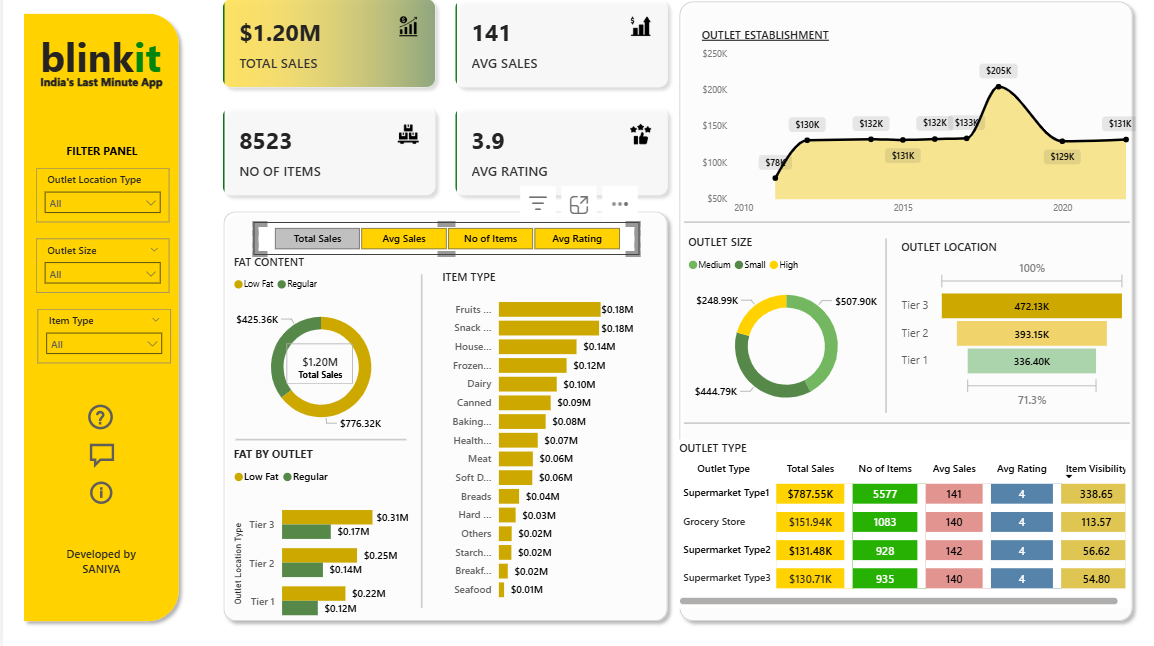

Layout of this report page (visuals, bound fields, positions):
{"tool":"powerbi","page":{"name":"blinkit","canvas":[1400,800],"ordinal":0},"visuals":[{"type":"shape","box":[16.5,24.8,204.6,750.3],"z":0},{"type":"textbox","box":[39.3,47.5,161.2,88.9],"z":1000},{"type":"textbox","box":[39.3,101.3,161.2,35.1],"z":2000},{"type":"cardVisual","fields":{"Data":["BlinkIT Grocery Data.Total Sales","BlinkIT Grocery Data.Avg Sales","BlinkIT Grocery Data.No of Items","BlinkIT Grocery Data.Avg Rating"]},"box":[248,0,570.5,270.8],"z":3000},{"type":"shape","box":[256.6,263.9,553,511.5],"z":4000},{"type":"donutChart","title":"FAT CONTENT","fields":{"Y":["BlinkIT Grocery Data.Total Sales"],"Category":["BlinkIT Grocery Data.Item Fat Content"]},"box":[272.6,323.1,220.1,228.2],"z":5000},{"type":"slicer","fields":{"Values":["Metrics.Metrics"]},"box":[301.8,285.2,465.1,39.3],"z":6000},{"type":"cardVisual","fields":{"Data":["BlinkIT Grocery Data.Total Sales"]},"box":[336.9,425.8,90.9,59.9],"z":7000},{"type":"clusteredBarChart","title":"FAT BY OUTLET","fields":{"Y":["BlinkIT Grocery Data.Total Sales"],"Category":["BlinkIT Grocery Data.Outlet Location Type"],"Series":["BlinkIT Grocery Data.Item Fat Content"]},"box":[273.3,551.7,220,230],"z":8000},{"type":"shape","box":[280.7,529,206,36.3],"z":9000},{"type":"shape","box":[492.7,349.3,22.2,401.8],"z":10000},{"type":"barChart","title":"ITEM TYPE","fields":{"Y":["BlinkIT Grocery Data.Total Sales"],"Category":["BlinkIT Grocery Data.Item Type"]},"box":[525,341.3,240.3,409.9],"z":11000},{"type":"shape","box":[806,10.8,563.9,764.5],"z":12000},{"type":"lineChart","title":"OUTLET ESTABLISHMENT","fields":{"Category":["BlinkIT Grocery Data.Outlet Establishment Year"],"Y":["BlinkIT Grocery Data.Total Sales"]},"box":[836,50.5,533.1,234.2],"z":13000},{"type":"shape","box":[819.8,258.5,537.1,54.5],"z":14000},{"type":"donutChart","title":"OUTLET SIZE","fields":{"Y":["BlinkIT Grocery Data.Total Sales"],"Category":["BlinkIT Grocery Data.Outlet Size"]},"box":[819.8,300.9,246,225],"z":15000},{"type":"shape","box":[1052,304.9,24.2,210],"z":16000},{"type":"funnel","title":"OUTLET LOCATION","fields":{"Y":["Sum(BlinkIT Grocery Data.Sales)"],"Category":["BlinkIT Grocery Data.Outlet Location Type"]},"box":[1076.3,304.9,280.7,210],"z":17000},{"type":"shape","box":[819.8,500.8,537.1,54.5],"z":18000},{"type":"pivotTable","title":"OUTLET TYPE","fields":{"Rows":["BlinkIT Grocery Data.Outlet Type"],"Values":["BlinkIT Grocery Data.Total Sales","BlinkIT Grocery Data.No of Items","BlinkIT Grocery Data.Avg Sales","BlinkIT Grocery Data.Avg Rating","Sum(BlinkIT Grocery Data.Item Visibility)"]},"box":[809.7,547.6,547.6,204.2],"z":19000},{"type":"slicer","fields":{"Values":["BlinkIT Grocery Data.Outlet Location Type"]},"box":[39.8,220.5,160.8,65.1],"z":20000},{"type":"slicer","fields":{"Values":["BlinkIT Grocery Data.Outlet Size"]},"box":[39.8,305.4,160.8,65.1],"z":21000},{"type":"slicer","fields":{"Values":["BlinkIT Grocery Data.Item Type"]},"box":[41.6,390.4,160.8,65.1],"z":22000},{"type":"textbox","box":[68.7,184.3,101.2,36.1],"z":22001},{"type":"actionButton","box":[92.2,585.6,54.2,52.4],"z":22002},{"type":"textbox","box":[57.8,670.5,121.1,50.6],"z":22003},{"type":"actionButton","box":[92.2,535,54.2,63.3],"z":22004},{"type":"actionButton","box":[97.6,500.6,99.4,39.8],"z":22005}]}

Visuals, with their boxes in screenshot pixels (x1, y1, x2, y2), scaled from the page's 1400x800 canvas onto the 1154x646 screenshot:
shape: {"left": 14, "top": 20, "right": 182, "bottom": 626}
textbox: {"left": 32, "top": 38, "right": 165, "bottom": 110}
textbox: {"left": 32, "top": 82, "right": 165, "bottom": 110}
cardVisual - BlinkIT Grocery Data.Total Sales x BlinkIT Grocery Data.Avg Sales: {"left": 204, "top": 0, "right": 675, "bottom": 219}
shape: {"left": 212, "top": 213, "right": 667, "bottom": 626}
"FAT CONTENT" donutChart: {"left": 225, "top": 261, "right": 406, "bottom": 445}
slicer - Metrics.Metrics: {"left": 249, "top": 230, "right": 632, "bottom": 262}
cardVisual - BlinkIT Grocery Data.Total Sales: {"left": 278, "top": 344, "right": 353, "bottom": 392}
"FAT BY OUTLET" clusteredBarChart: {"left": 225, "top": 445, "right": 407, "bottom": 631}
shape: {"left": 231, "top": 427, "right": 401, "bottom": 456}
shape: {"left": 406, "top": 282, "right": 424, "bottom": 607}
"ITEM TYPE" barChart: {"left": 433, "top": 276, "right": 631, "bottom": 607}
shape: {"left": 664, "top": 9, "right": 1129, "bottom": 626}
"OUTLET ESTABLISHMENT" lineChart: {"left": 689, "top": 41, "right": 1129, "bottom": 230}
shape: {"left": 676, "top": 209, "right": 1118, "bottom": 253}
"OUTLET SIZE" donutChart: {"left": 676, "top": 243, "right": 879, "bottom": 425}
shape: {"left": 867, "top": 246, "right": 887, "bottom": 416}
"OUTLET LOCATION" funnel: {"left": 887, "top": 246, "right": 1119, "bottom": 416}
shape: {"left": 676, "top": 404, "right": 1118, "bottom": 448}
"OUTLET TYPE" pivotTable: {"left": 667, "top": 442, "right": 1119, "bottom": 607}
slicer - BlinkIT Grocery Data.Outlet Location Type: {"left": 33, "top": 178, "right": 165, "bottom": 231}
slicer - BlinkIT Grocery Data.Outlet Size: {"left": 33, "top": 247, "right": 165, "bottom": 299}
slicer - BlinkIT Grocery Data.Item Type: {"left": 34, "top": 315, "right": 167, "bottom": 368}
textbox: {"left": 57, "top": 149, "right": 140, "bottom": 178}
actionButton: {"left": 76, "top": 473, "right": 121, "bottom": 515}
textbox: {"left": 48, "top": 541, "right": 147, "bottom": 582}
actionButton: {"left": 76, "top": 432, "right": 121, "bottom": 483}
actionButton: {"left": 80, "top": 404, "right": 162, "bottom": 436}
